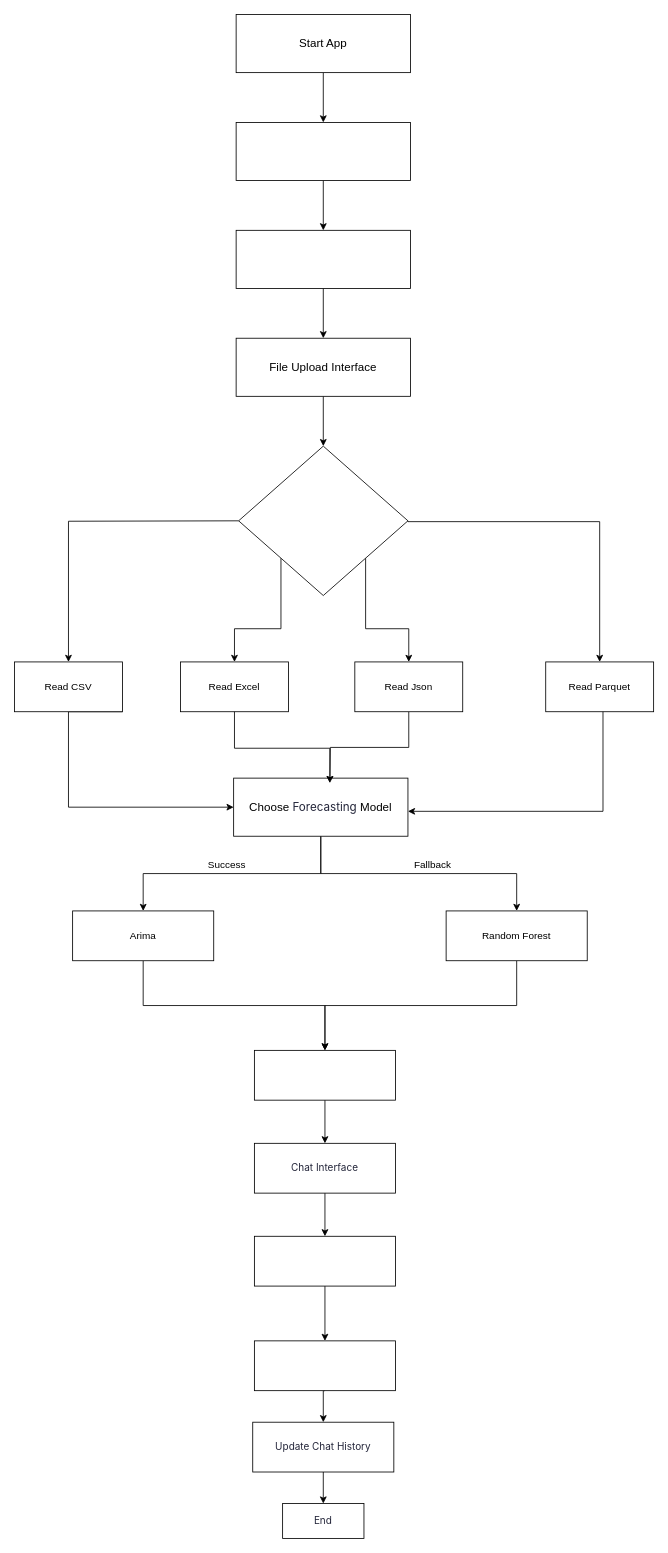
The diagram is 668 pixels wide and 1553 high, and some of its shapes have lost their labels. Here are the shapes that lost their labels. From the top down, the centre of each, then its label:
At pixel 322 151: "Initialize Streamlit App".
At pixel 322 258: "Setup AWS Bedrock Client".
At pixel 323 520: "Process Uploaded File".
At pixel 324 1075: "Visualize Result".
At pixel 324 1260: "Process User Query".
At pixel 324 1365: "Generate AI Response".
